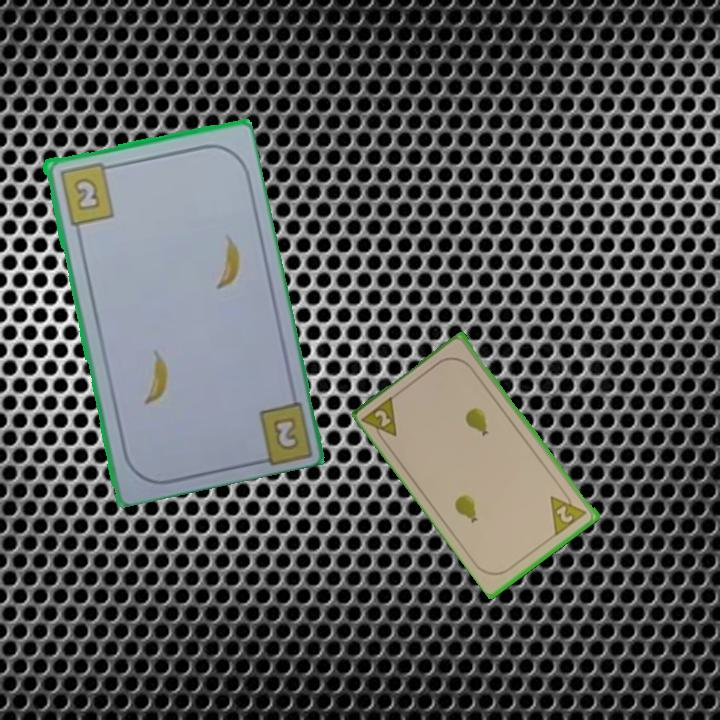2b: (55, 158, 117, 228), (268, 413, 304, 453)
2p: (360, 392, 401, 448), (547, 486, 590, 538)
